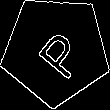P_NW: (26, 20, 86, 80)
